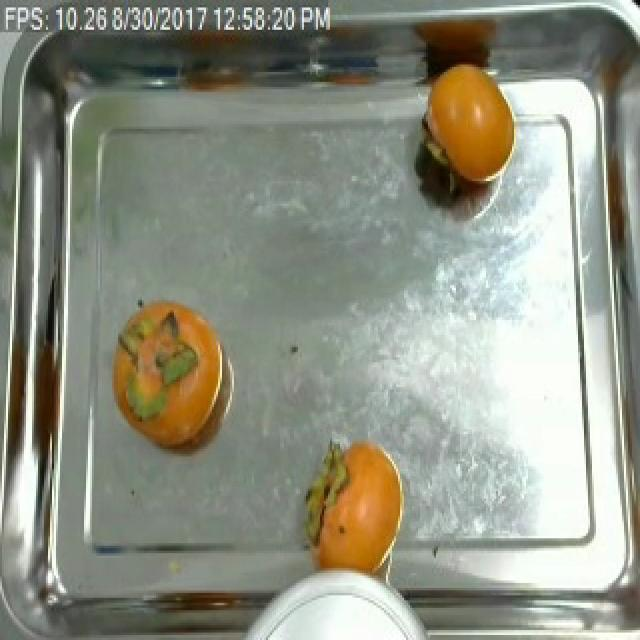Fruit: (104, 290, 230, 464), (292, 424, 418, 596), (408, 52, 524, 206)
